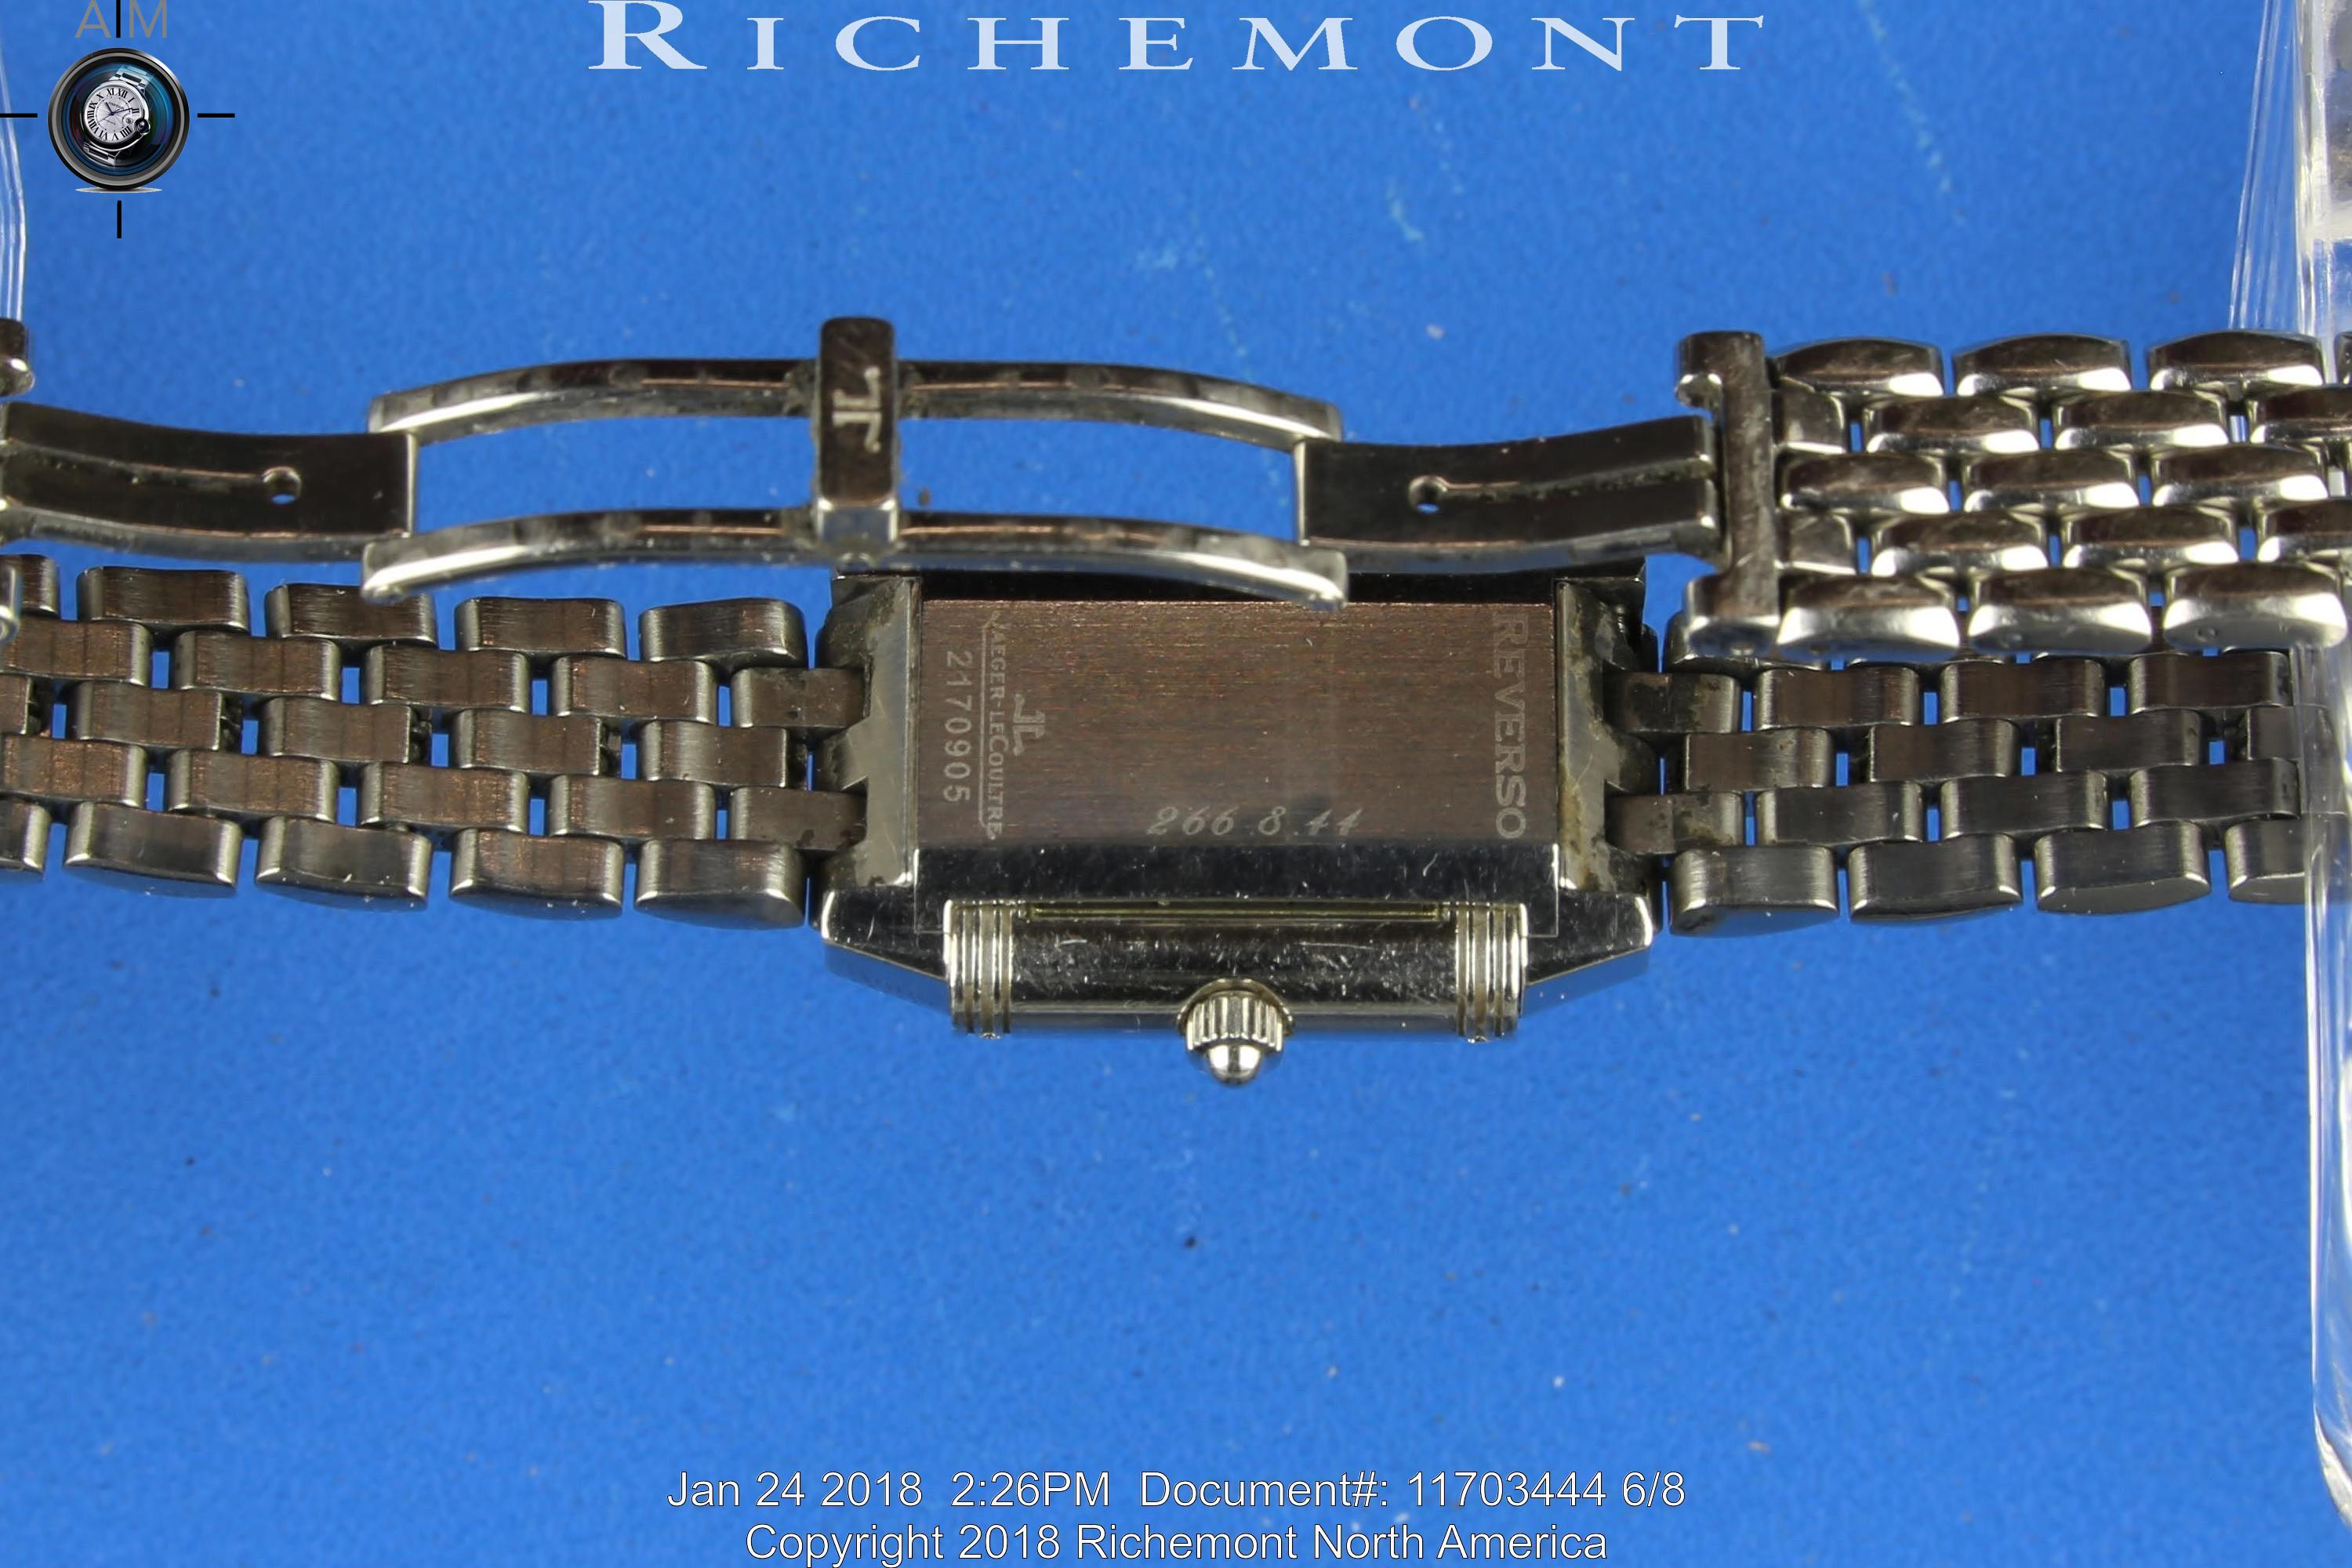Watch Back Case: (824, 563, 1668, 1003)
